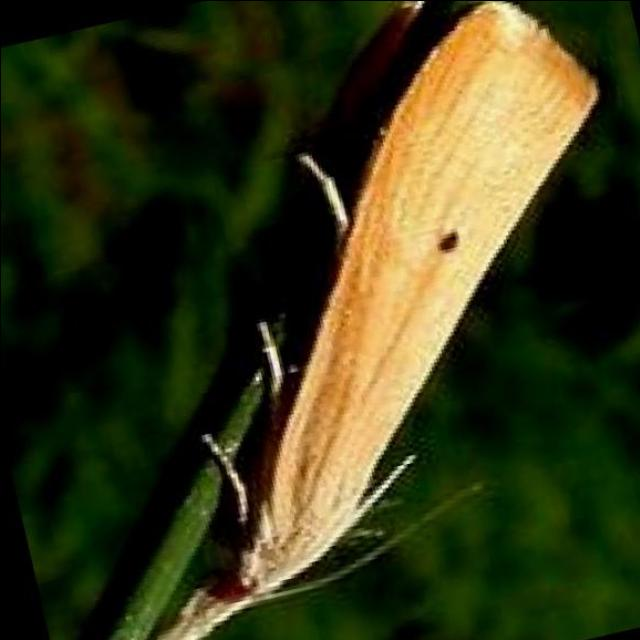stem borer: (152, 0, 596, 640), (299, 154, 348, 240)
